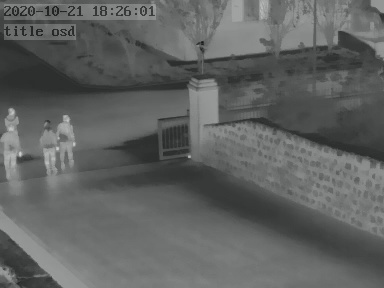person: (57, 112, 76, 171), (39, 118, 58, 175), (2, 126, 20, 178), (2, 104, 18, 127)
